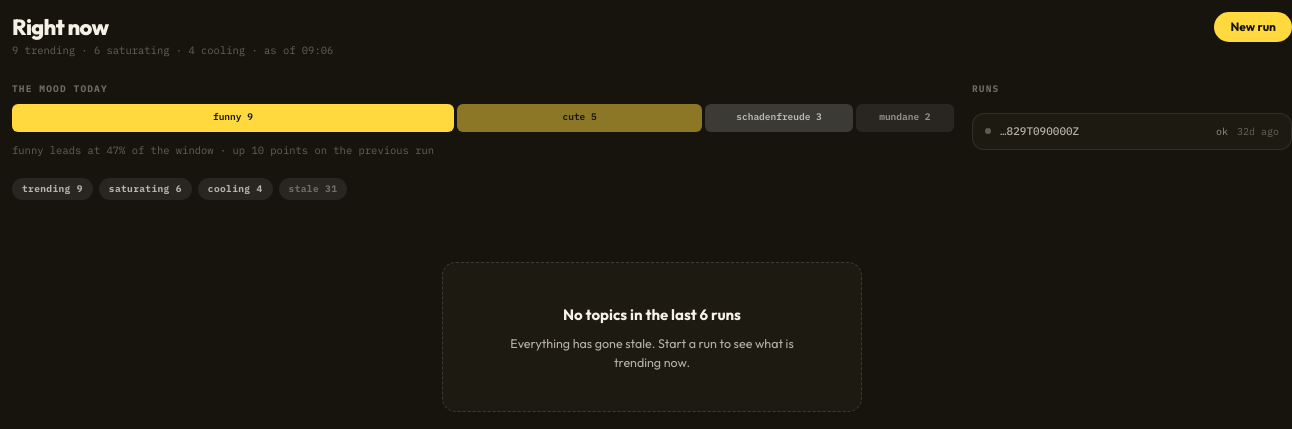
it: TopicsPage › says so lightly when a filter matched nothing
The image size is (1292, 429).
Expected: the heading "Right now" is shown, x1=12 y1=16 x2=108 y2=38
What coordinates should you click on to do the following:
click the button "stale 31"
I would click on:
 (313, 189)
Its box is x1=279 y1=178 x2=347 y2=200.
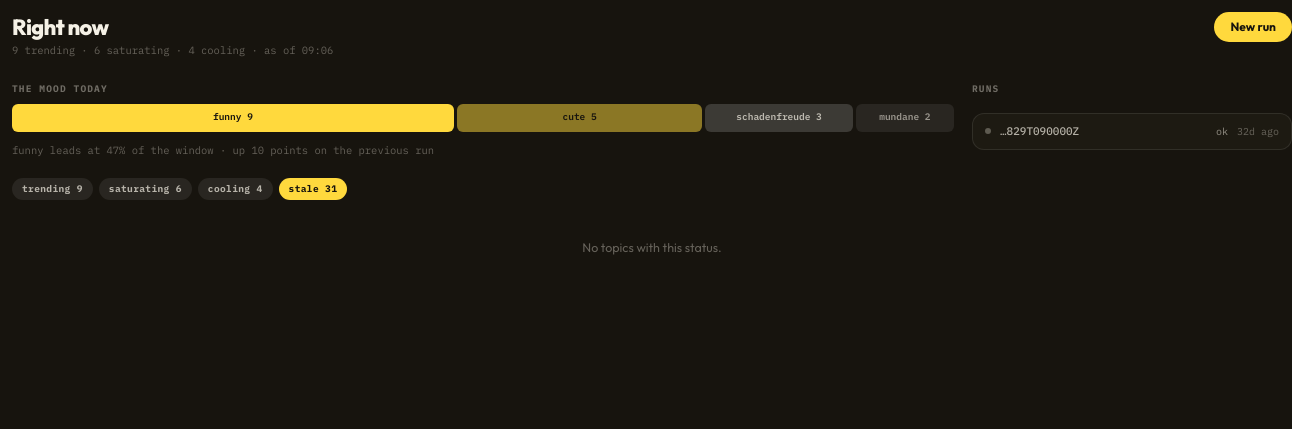
Expected: the text "No topics with this status." is shown, x1=582 y1=238 x2=722 y2=254
